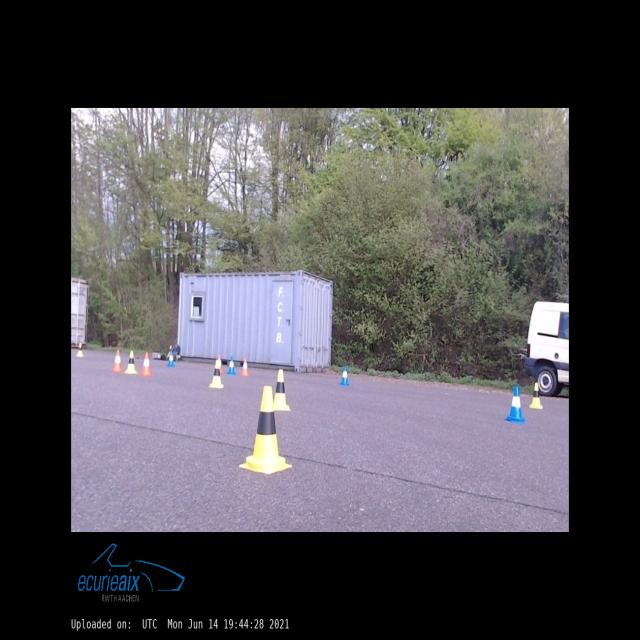blue_cone: (504, 386, 526, 422), (340, 366, 350, 386), (227, 356, 236, 374), (167, 351, 174, 366)
orange_cone: (140, 352, 152, 376), (112, 350, 123, 371), (240, 358, 250, 375), (218, 357, 224, 372)
yellow_cone: (240, 386, 292, 474), (274, 369, 290, 411), (209, 361, 224, 388), (530, 382, 542, 408), (125, 351, 138, 373), (77, 342, 84, 357)
